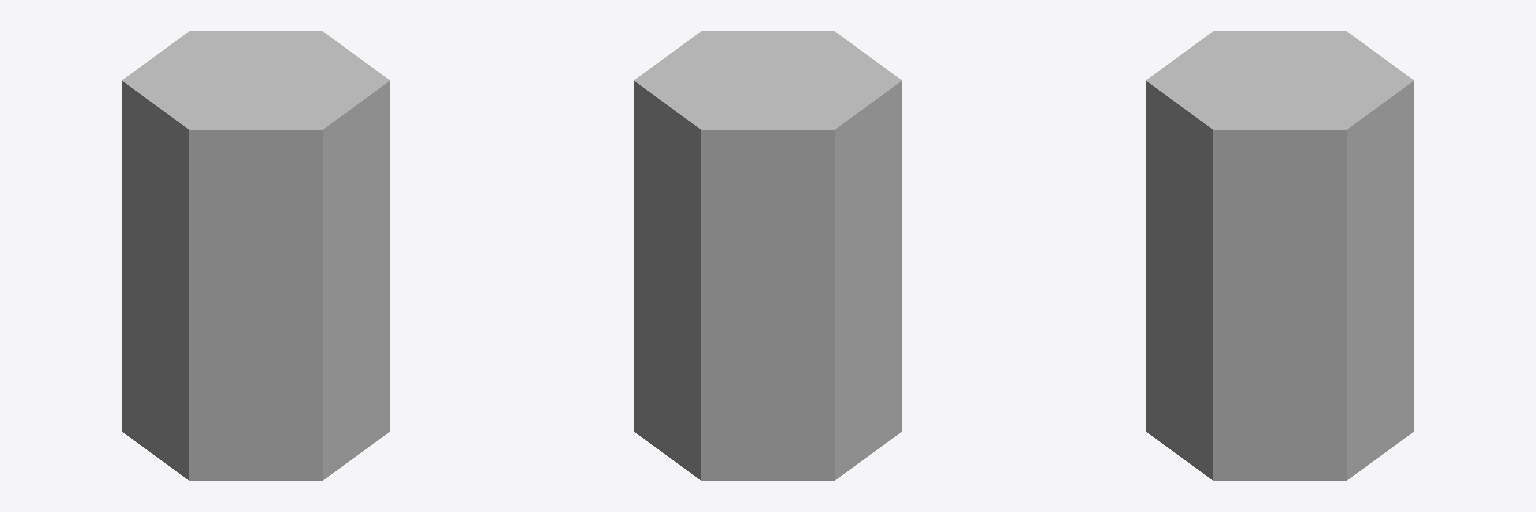
File: placeholderLongHex.obj
3 views of the same model, side by side, from view 1: azimuth 30°, elevation 25°; view 2: azimuth 150°, elevation 25°; view 3: azimuth 270°, elevation 25° (orthographic).
Visible parts, largest first — view 1: Cylinder; view 2: Cylinder; view 3: Cylinder.
Part boxes in pixels (bbox=[...]): Cylinder: bbox=[122, 31, 389, 480]; Cylinder: bbox=[634, 31, 901, 480]; Cylinder: bbox=[1146, 31, 1413, 480].
Bounding box in the file's own units: 1.73 × 2.89 × 2.